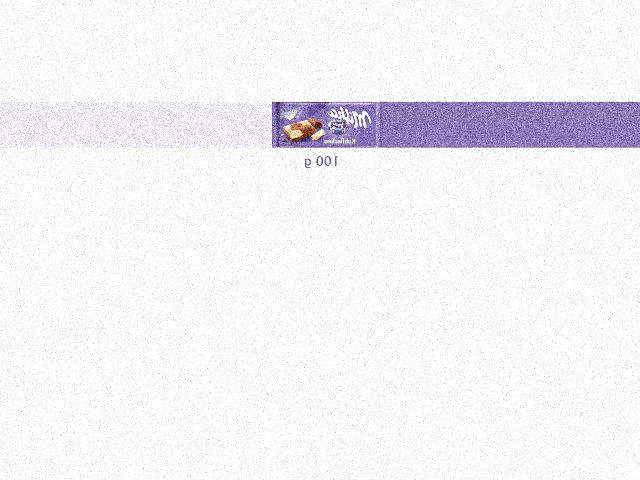chocolate: (271, 101, 382, 149)
